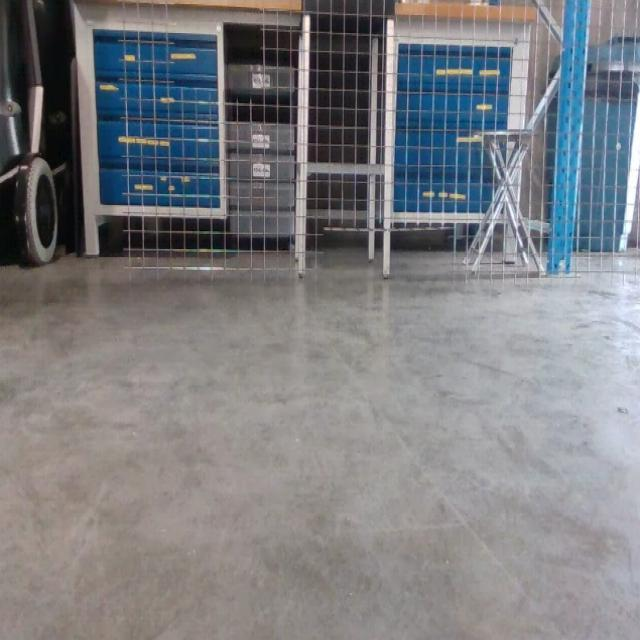fence line: (170, 3, 265, 110), (318, 226, 461, 286)
